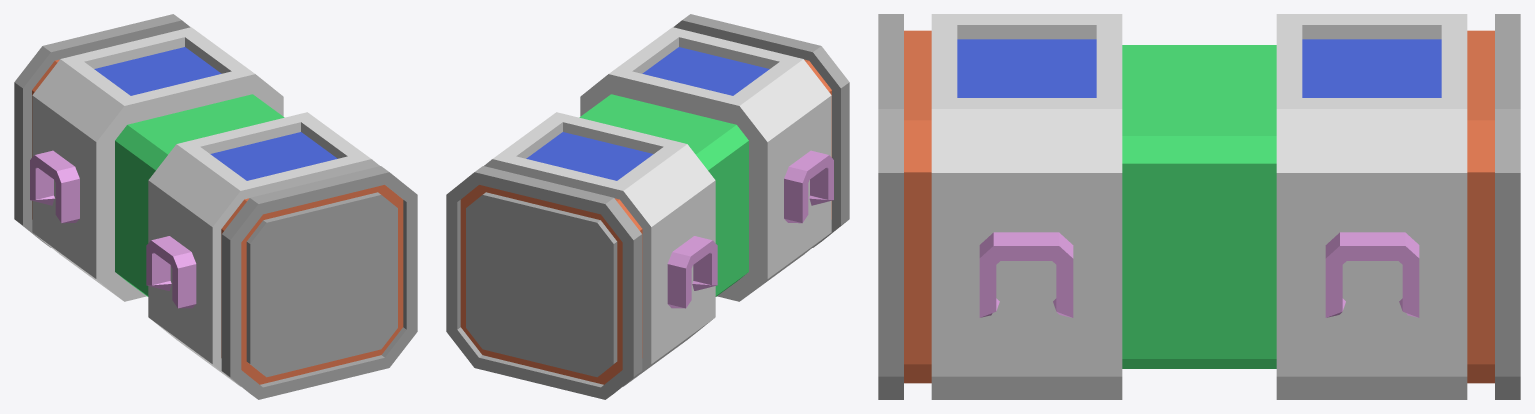
The model's file is EMP_Bomb.fbx.
The picture shows the model from 3 angles, left to right: view 1: azimuth 30°, elevation 25°; view 2: azimuth 150°, elevation 25°; view 3: azimuth 270°, elevation 25°; orthographic projection. The views are drawn at different scales.
Parts seen in each view (by area): view 1: Cube, Cube.001; view 2: Cube, Cube.001; view 3: Cube, Cube.001.
Part boxes in pixels (<box>): Cube: <box>14,14,417,399</box>; Cube.001: <box>30,150,196,308</box>; Cube: <box>446,14,849,399</box>; Cube.001: <box>667,150,833,308</box>; Cube: <box>878,14,1520,399</box>; Cube.001: <box>979,232,1419,317</box>.
Bounding box in the file's own units: 120 × 100 × 200.
